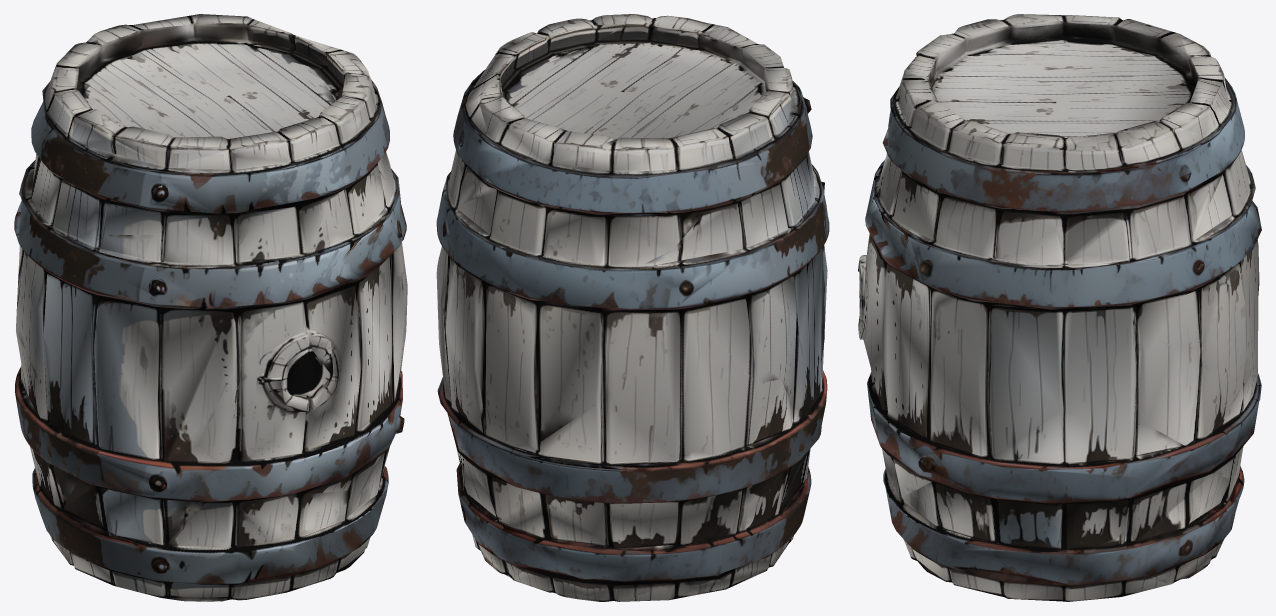
Rendered from lhi_oak_barrel.glb.
3 renders of one model, left to right at view 1: azimuth 30°, elevation 25°; view 2: azimuth 150°, elevation 25°; view 3: azimuth 270°, elevation 25°, orthographic.
Visible parts, largest first — view 1: material; view 2: material; view 3: material.
Boxes of the visible parts, left/top/right/bottom form: material: left=14, top=14, right=407, bottom=601; material: left=436, top=14, right=829, bottom=601; material: left=858, top=14, right=1261, bottom=601.
Size of the model in its own units: 0.787 by 1.01 by 0.8055.
1 material, 1 textured.
